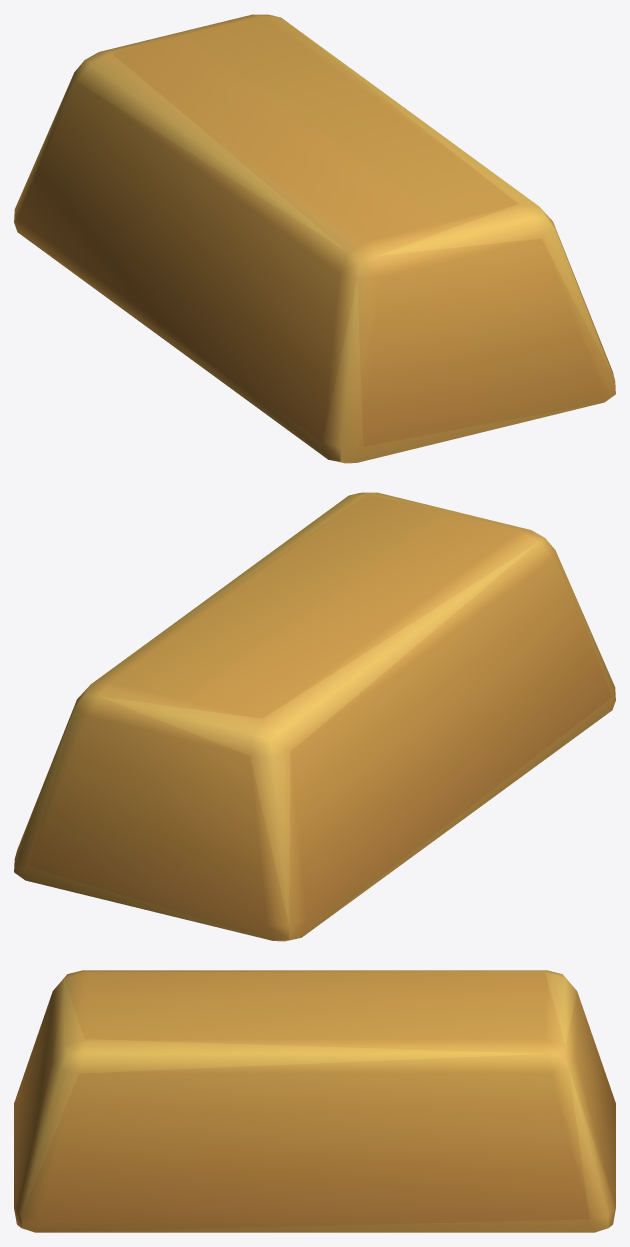
The model's file is gold-bar.glb.
3 views of the same model, one above another, from view 1: azimuth 30°, elevation 25°; view 2: azimuth 150°, elevation 25°; view 3: azimuth 270°, elevation 25° (orthographic). The views are drawn at different scales.
Parts seen in each view (by area): view 1: Gold_Bar; view 2: Gold_Bar; view 3: Gold_Bar.
Part boxes in pixels (<box>): Gold_Bar: <box>14,14,615,463</box>; Gold_Bar: <box>14,492,615,941</box>; Gold_Bar: <box>14,970,615,1232</box>.
Size of the model in its own units: 0.4 by 0.25 by 0.8.
Materials: 1 (1 with a texture image).
